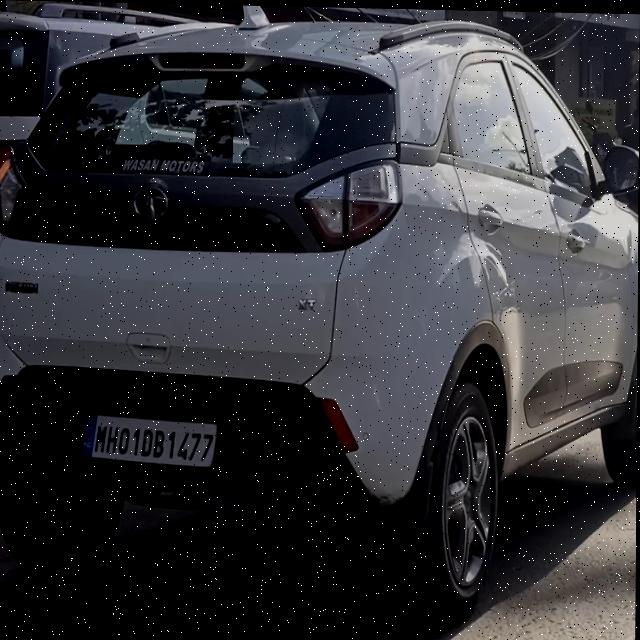plate: (82, 412, 219, 468)
